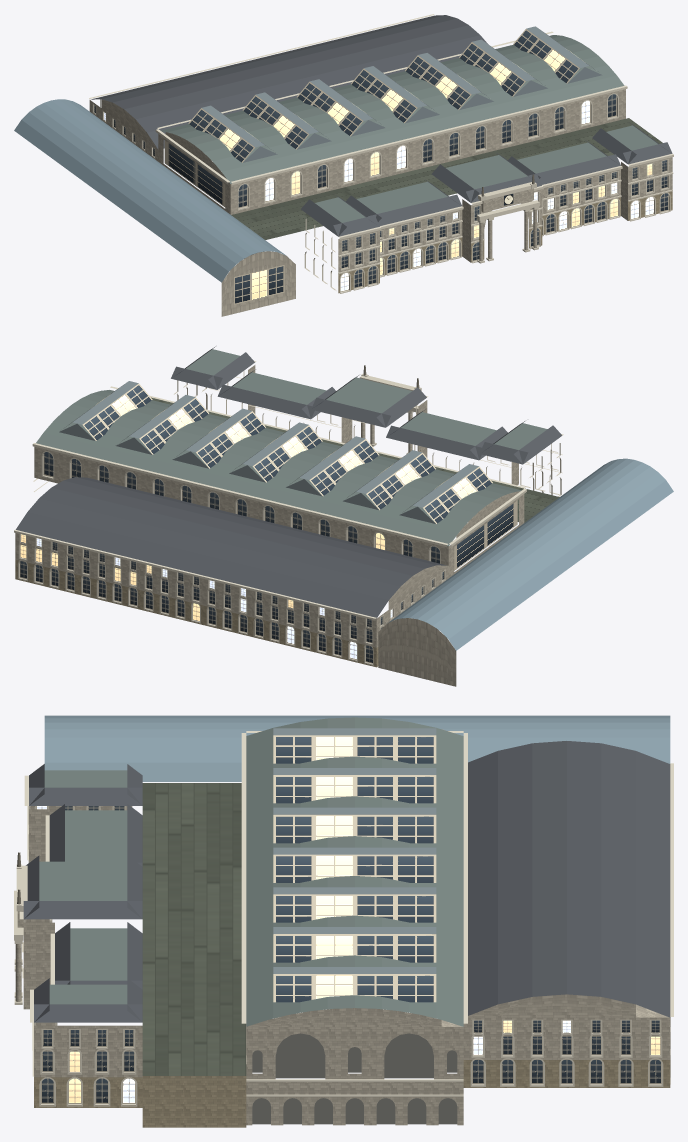
The model's file is hb_shell.glb.
The picture shows the model from 3 angles, top to bottom: view 1: azimuth 30°, elevation 25°; view 2: azimuth 150°, elevation 25°; view 3: azimuth 270°, elevation 25°; orthographic projection. The views are drawn at different scales.
Parts seen in each view (by area): view 1: hb_shell; view 2: hb_shell; view 3: hb_shell.
Part boxes in pixels (x1,y1,x2,y2): hb_shell: (14, 14, 673, 316); hb_shell: (14, 346, 673, 686); hb_shell: (14, 715, 673, 1127).
Bounding box in the file's own units: 159 × 28.3 × 128.
3 materials, 3 textured.
